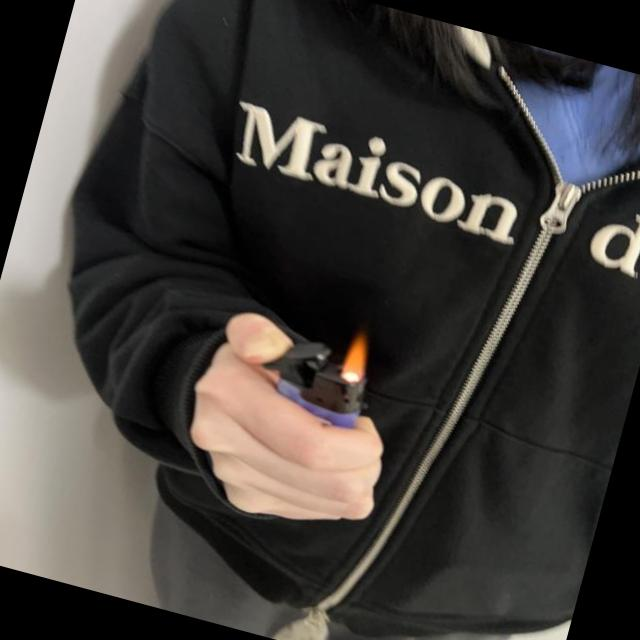Fire: (337, 326, 377, 386)
